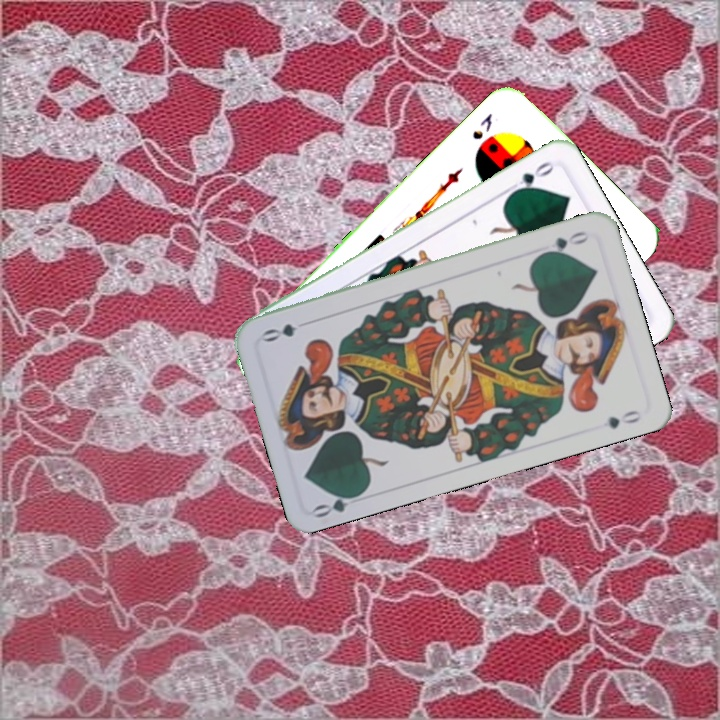GO: (503, 157, 558, 198), (310, 488, 367, 521), (537, 227, 592, 258)
SK: (468, 109, 495, 143)
